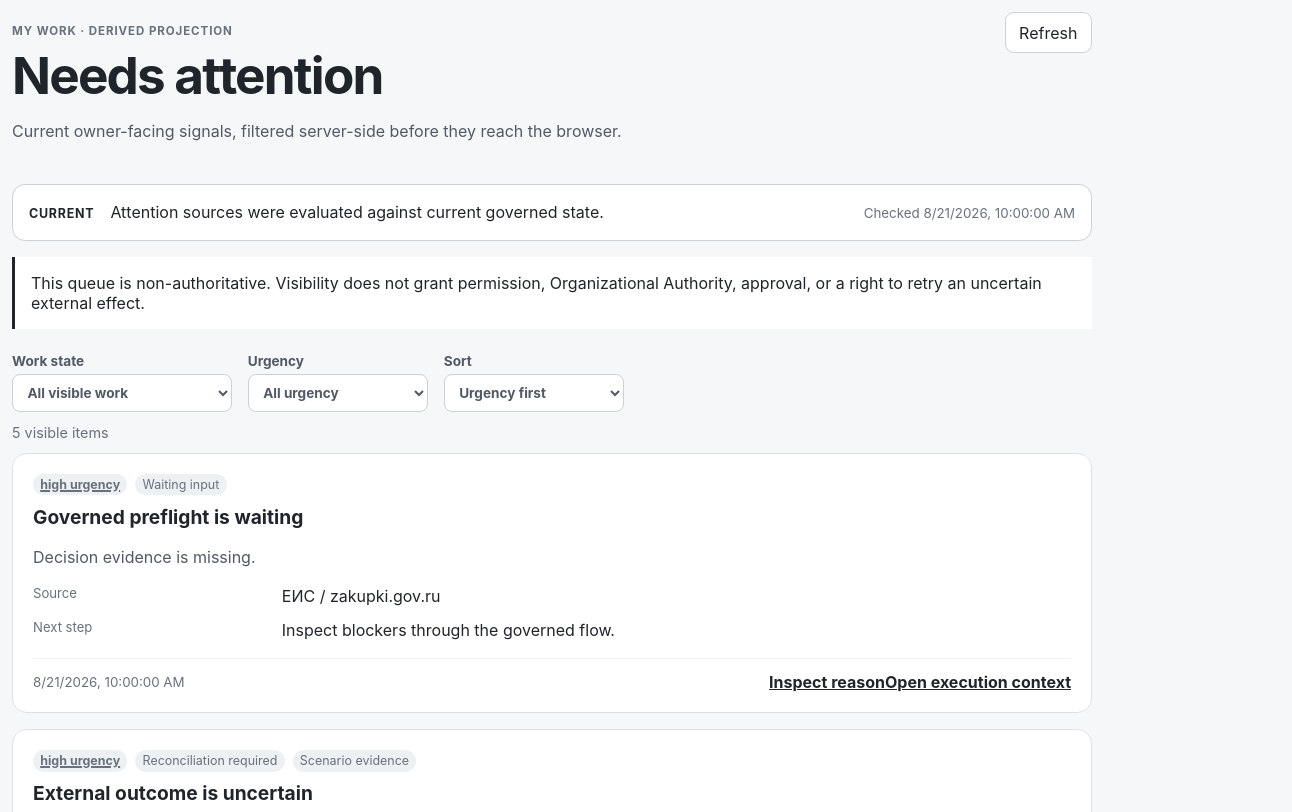
Test: P9.04 My Work with R30 integration › filters only the already-authorized browser projection
Expected: the heading "Needs attention" is shown, [12,44,383,106]
Select "Awaiting reconciliation" in the dropdown labelled "Work state" at (122, 393), box [12,374,232,412]
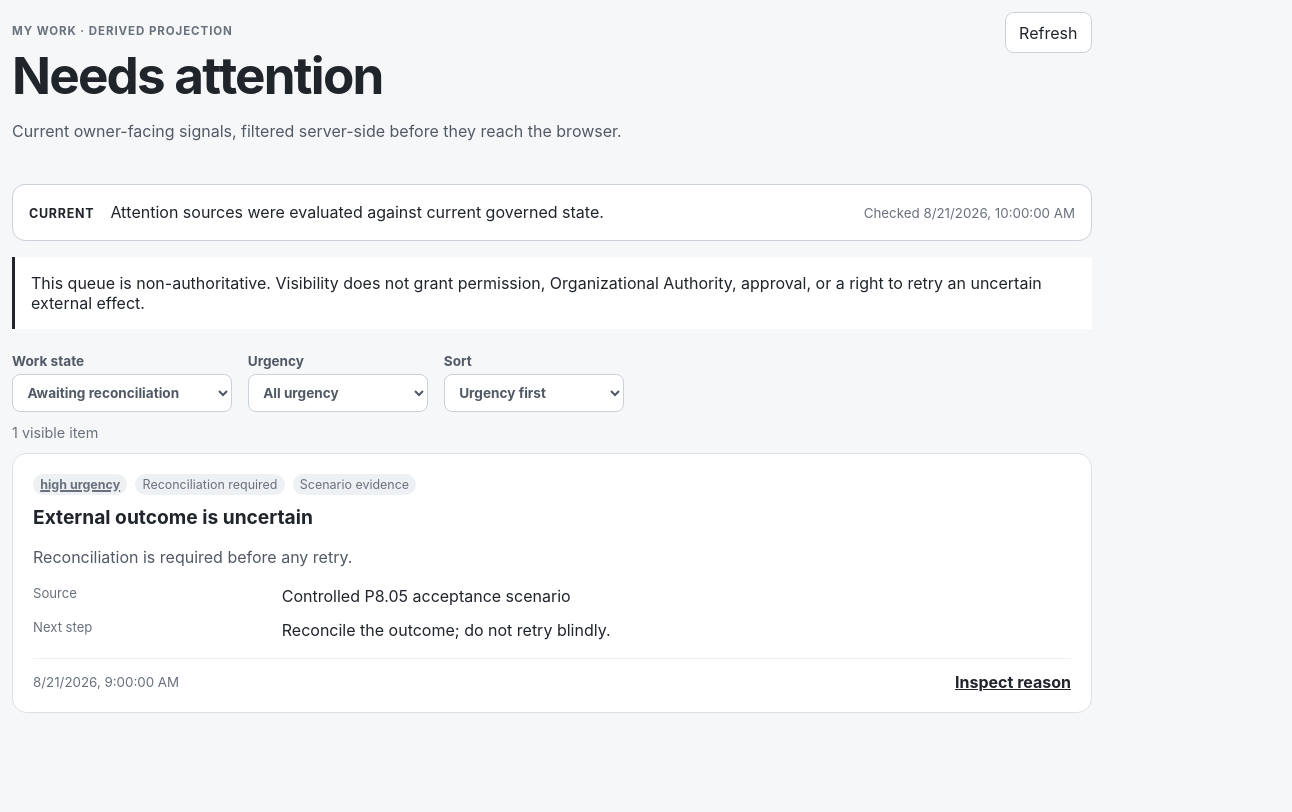
Expected: the heading "External outcome is uncertain" is shown, [33,505,313,529]
Result: the text "1 visible item" is shown at [12,424,98,441]
Result: the link "Open execution context" is gone
